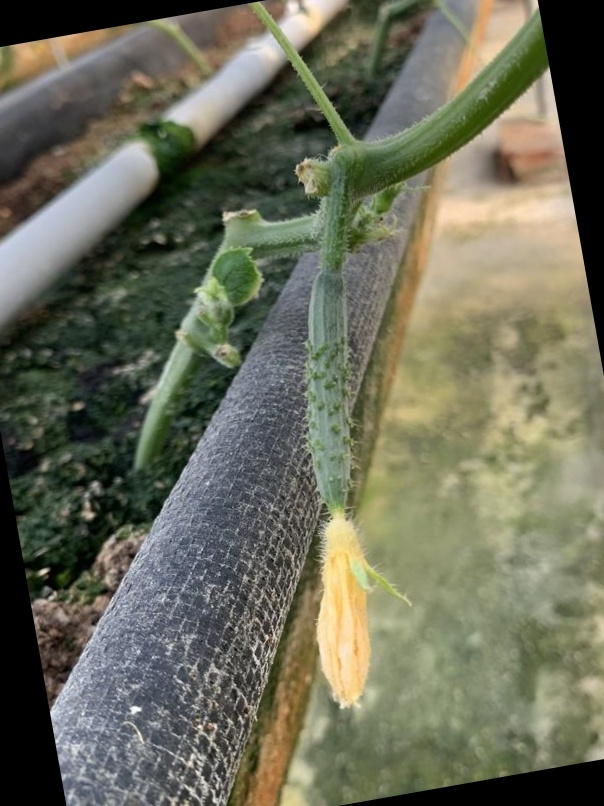bear: (270, 254, 426, 716)
